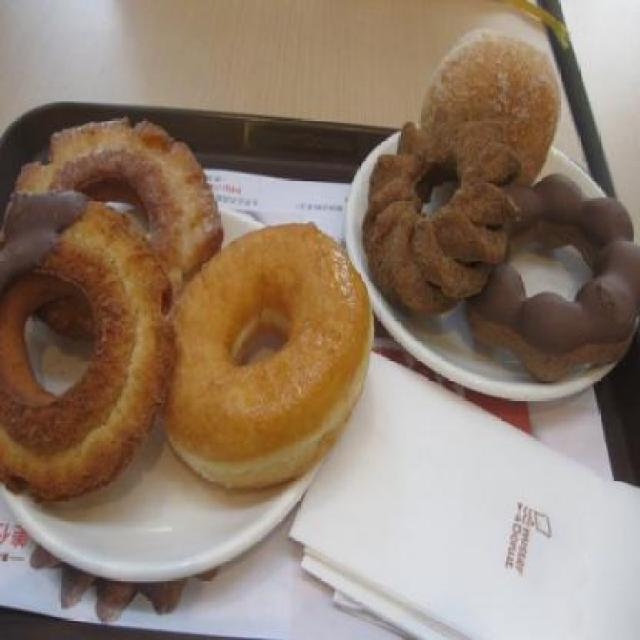Donuts: (6, 43, 638, 515)
